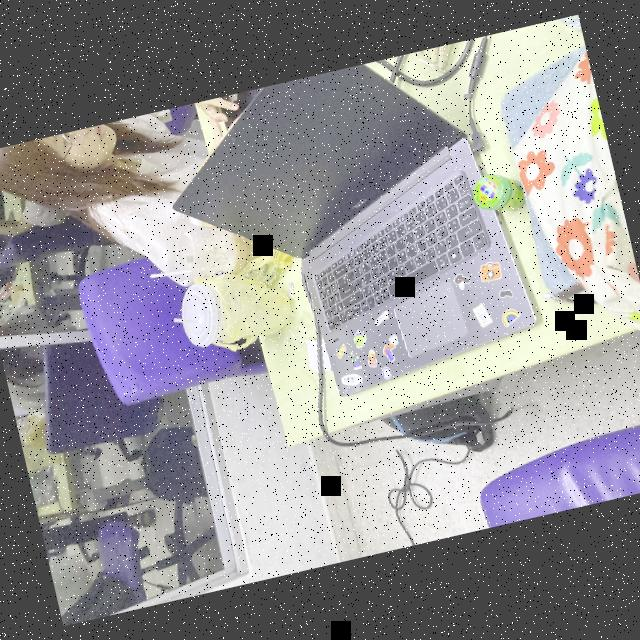plastic_bag: (201, 260, 297, 354), (227, 228, 297, 299)
plastic_bottle_cap: (168, 279, 228, 354)
plastic_cup: (154, 206, 268, 292)
plastic_spoon: (182, 228, 208, 255)
scrap_paper: (300, 333, 334, 378)
straw: (148, 262, 195, 282), (171, 312, 196, 329)
